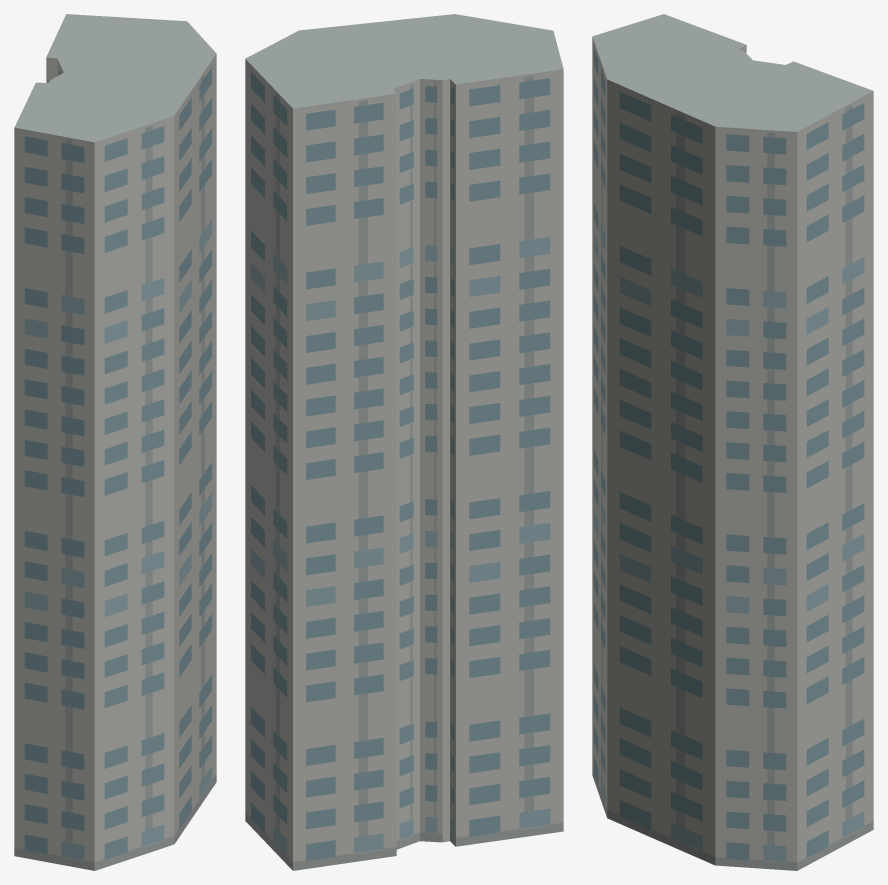
File: survey-upis-32905488.glb
3 renders of one model, left to right at view 1: azimuth 30°, elevation 25°; view 2: azimuth 150°, elevation 25°; view 3: azimuth 270°, elevation 25°, orthographic. The views are drawn at different scales.
Parts seen in each view (by area): view 1: survey-upis-32905488.tmp; view 2: survey-upis-32905488.tmp; view 3: survey-upis-32905488.tmp.
Boxes of the visible parts, box(x1,y1,x2,y2) form: survey-upis-32905488.tmp: box(14, 14, 216, 870); survey-upis-32905488.tmp: box(245, 14, 563, 870); survey-upis-32905488.tmp: box(592, 14, 873, 870).
Size of the model in its own units: 25.09 by 73.2 by 25.26.
